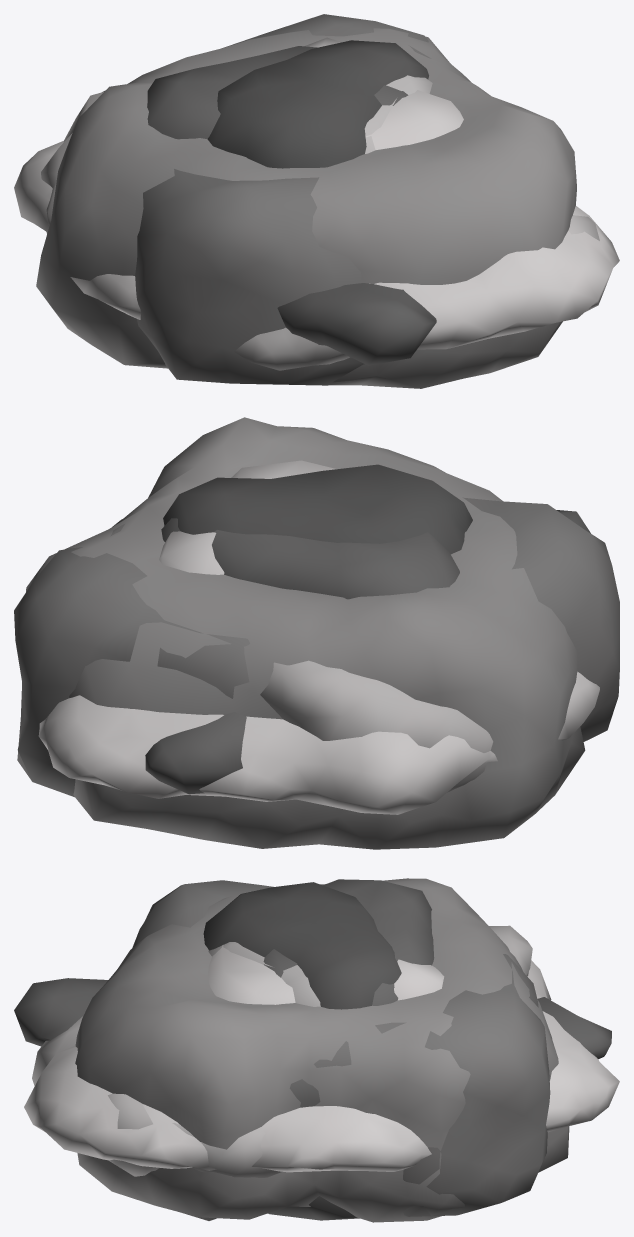
File: Rocks.fbx
3 views of the same model, one above another, from view 1: azimuth 30°, elevation 25°; view 2: azimuth 150°, elevation 25°; view 3: azimuth 270°, elevation 25° (orthographic). The views are drawn at different scales.
Parts seen in each view (by area): view 1: AR04, AR03, AR17, AR01, AR10, AR02, AR08, AR06, AR16, AR07; view 2: AR04, AR03, AR17, AR01, AR02, AR16, AR10, AR08; view 3: AR04, AR03, AR17, AR01, AR02, AR10, AR08, AR16, AR07.
Part boxes in pixels (x1,y1,x2,y2): AR04: (36, 28, 576, 388); AR03: (135, 14, 431, 385); AR17: (14, 141, 619, 349); AR01: (207, 40, 428, 168); AR10: (277, 283, 436, 365); AR02: (147, 46, 408, 139); AR08: (305, 37, 463, 149); AR06: (234, 283, 370, 370); AR16: (41, 90, 599, 240); AR07: (364, 75, 432, 153); AR04: (26, 417, 585, 849); AR03: (14, 497, 619, 797); AR17: (38, 671, 599, 814); AR01: (163, 464, 472, 554); AR02: (161, 518, 459, 599); AR16: (260, 660, 493, 792); AR10: (145, 510, 590, 794); AR08: (159, 460, 336, 574); AR04: (75, 878, 569, 1222); AR03: (132, 880, 550, 1220); AR17: (24, 960, 619, 1172); AR01: (203, 882, 401, 1009); AR02: (263, 879, 434, 1220); AR10: (14, 978, 611, 1059); AR08: (208, 945, 444, 1004); AR16: (108, 925, 532, 1177); AR07: (208, 942, 320, 1006).
Size of the model in its own units: 1711 by 901 by 2059.
